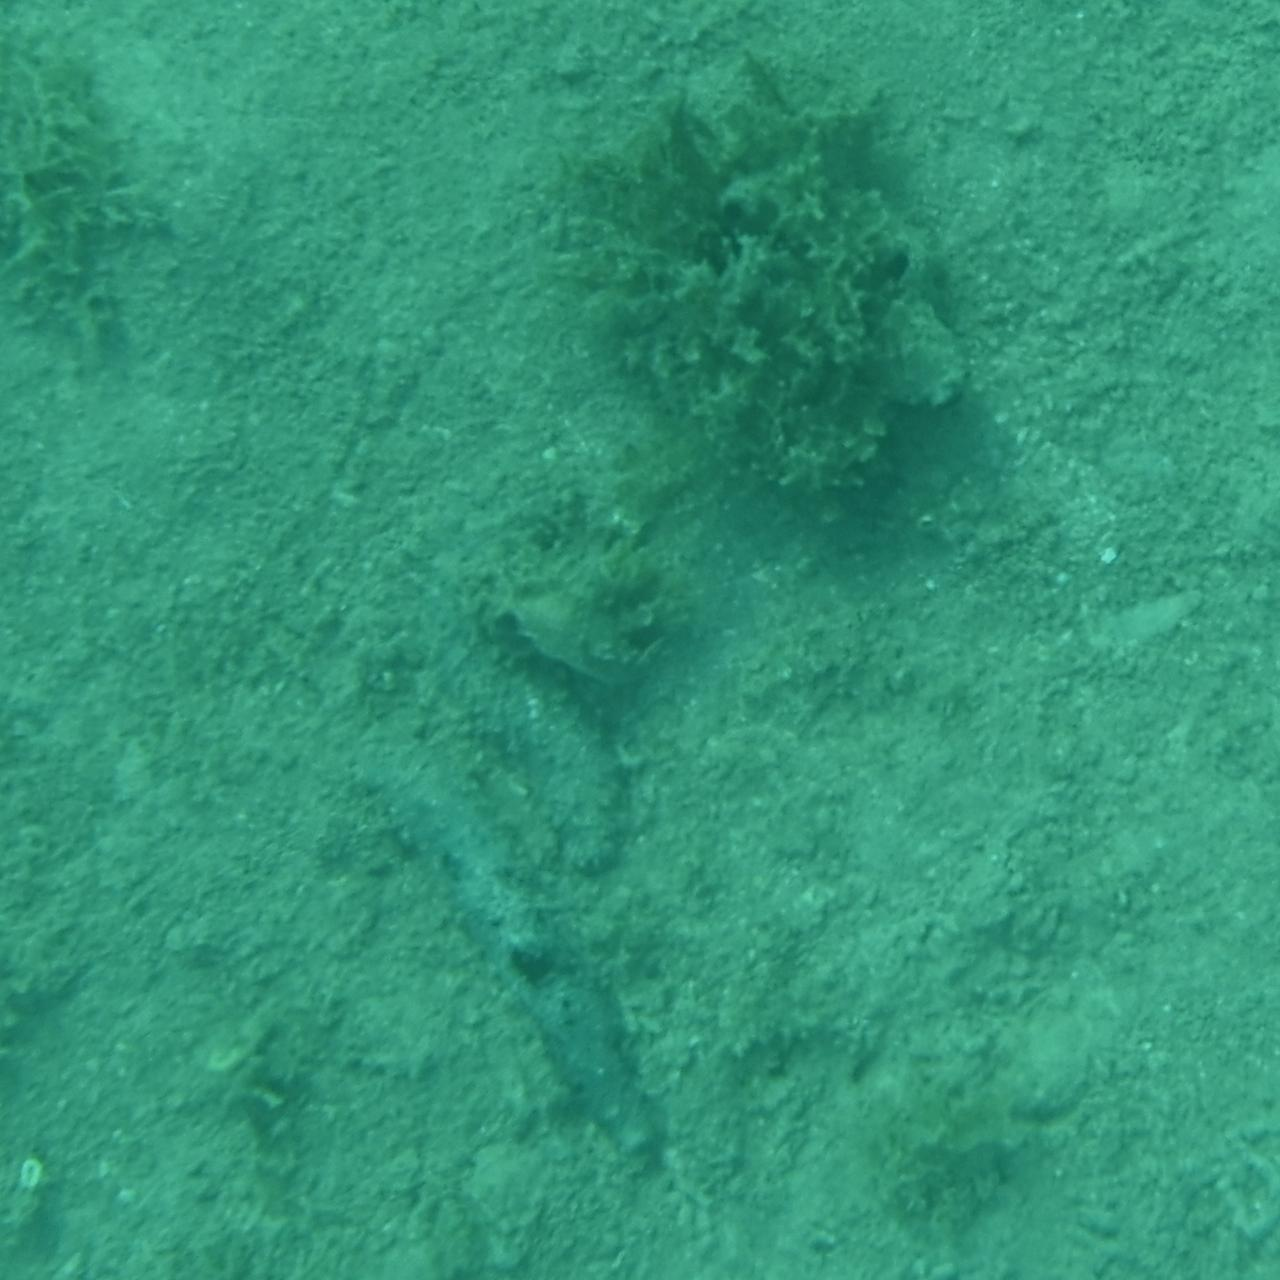Holothuria tubulosa: (376, 758, 668, 1198), (421, 651, 652, 888)
Phaeophyceae -cfr Cystoseira-: (526, 50, 989, 553)
